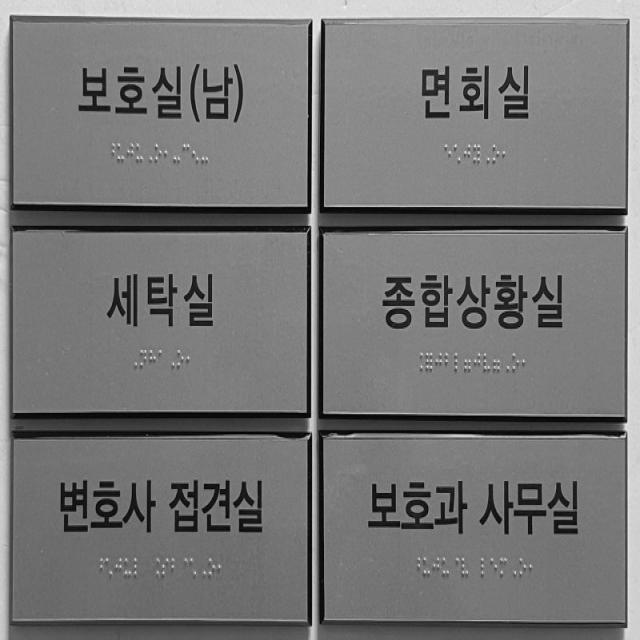braiile: (107, 141, 116, 166), (151, 557, 161, 579), (161, 557, 171, 579), (170, 557, 180, 579), (460, 555, 470, 577), (116, 142, 125, 166), (145, 142, 154, 165), (172, 142, 181, 165), (179, 556, 188, 579), (189, 556, 198, 579), (132, 557, 142, 577), (422, 556, 432, 576), (154, 142, 163, 164), (163, 142, 172, 164), (191, 144, 200, 166), (198, 556, 207, 578), (453, 143, 462, 165), (491, 143, 500, 165), (501, 143, 510, 165), (463, 351, 472, 373), (492, 351, 501, 373), (442, 555, 451, 577), (451, 556, 460, 578), (480, 556, 489, 578), (499, 556, 508, 578), (126, 140, 134, 164), (176, 348, 185, 369), (185, 348, 194, 369), (463, 143, 472, 164), (482, 351, 491, 372), (502, 352, 511, 373), (412, 556, 421, 577), (518, 556, 527, 577), (136, 141, 144, 164), (182, 142, 190, 165), (454, 351, 462, 374), (167, 349, 176, 369), (105, 557, 114, 577), (114, 557, 123, 577), (208, 556, 216, 578), (217, 556, 225, 578), (444, 143, 452, 165), (473, 143, 481, 165), (425, 351, 433, 373), (433, 555, 441, 577), (490, 556, 498, 578), (528, 556, 536, 578), (416, 352, 424, 373), (444, 351, 452, 372), (510, 557, 518, 578), (201, 144, 209, 164), (131, 349, 139, 369), (140, 349, 148, 369), (148, 349, 156, 369), (158, 349, 166, 369), (96, 557, 104, 577), (124, 557, 132, 577), (483, 144, 491, 164), (435, 352, 443, 372), (473, 352, 481, 372), (512, 352, 520, 372), (522, 352, 530, 372)
